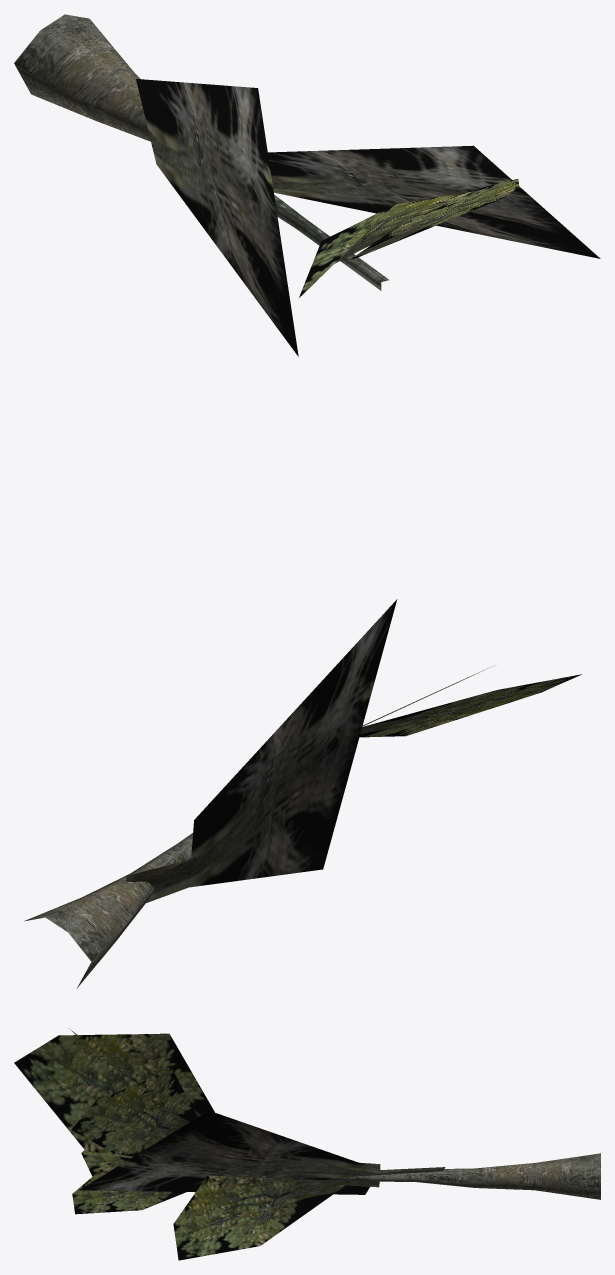
Rendered from tree_grey_oak_sm_a.glb.
The picture shows the model from 3 angles, top to bottom: view 1: azimuth 30°, elevation 25°; view 2: azimuth 150°, elevation 25°; view 3: azimuth 270°, elevation 25°; orthographic projection. The views are drawn at different scales.
Bounding box in the file's own units: 74.51 × 59.22 × 151.
Materials: 2 (2 with a texture image).
